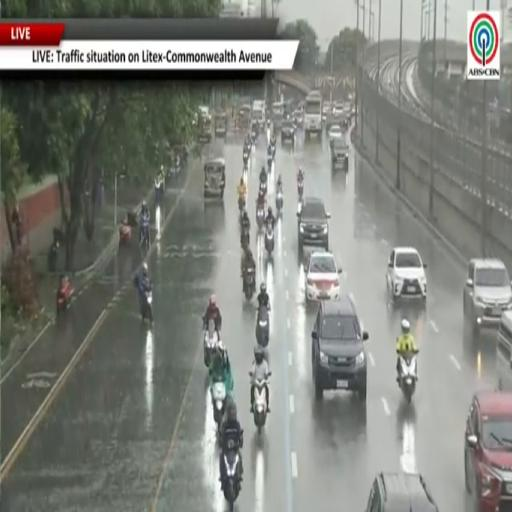car: (312, 295, 368, 402), (465, 390, 511, 511), (463, 259, 511, 331), (365, 472, 438, 511), (386, 247, 426, 302), (297, 197, 330, 252), (305, 250, 341, 300), (331, 139, 348, 170), (327, 124, 345, 148), (281, 120, 295, 145), (293, 109, 303, 127), (333, 103, 344, 117)
jeepney: (204, 158, 225, 199), (198, 107, 212, 141), (215, 112, 227, 137), (239, 104, 251, 129)
motorcycle: (222, 442, 241, 510), (252, 372, 271, 431), (397, 350, 417, 403), (212, 380, 226, 431), (204, 319, 218, 367), (57, 278, 73, 313), (256, 306, 269, 347), (243, 268, 255, 301), (141, 290, 152, 323), (119, 223, 131, 247), (265, 223, 274, 254), (154, 179, 164, 204), (140, 224, 149, 250), (256, 206, 265, 230), (241, 227, 250, 250), (241, 228, 250, 250), (276, 189, 283, 215), (259, 175, 267, 196), (297, 180, 303, 201), (267, 153, 273, 172), (239, 197, 245, 214), (243, 149, 248, 169), (271, 141, 275, 159)
truck: (304, 91, 323, 139)
